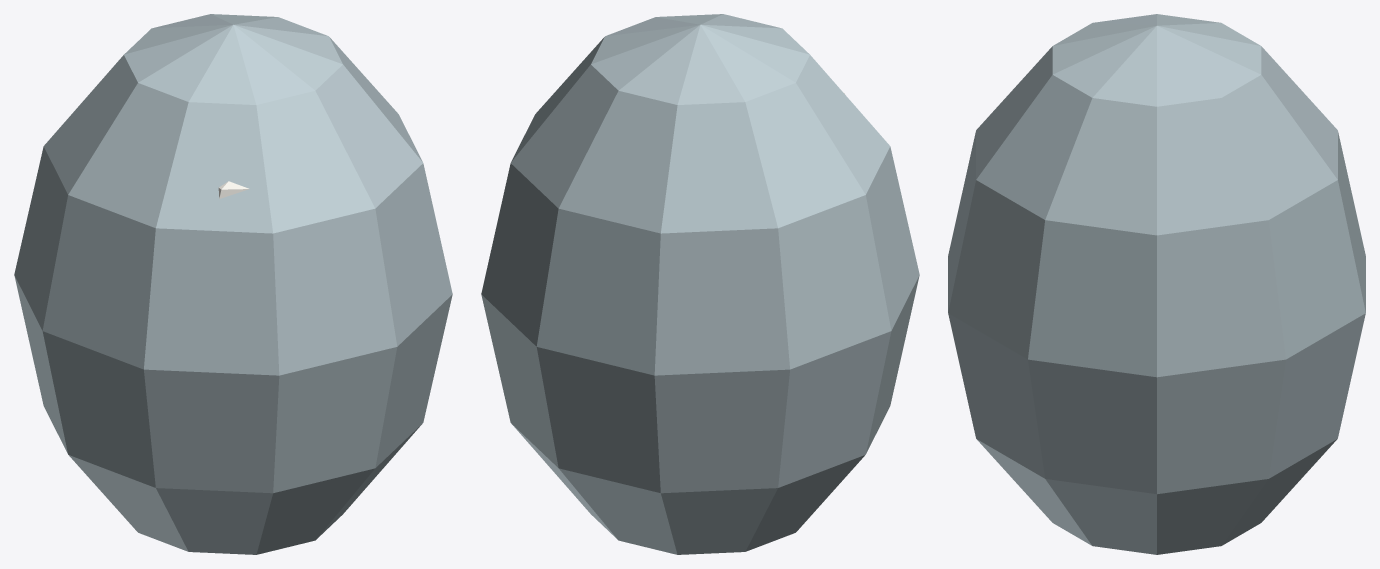
File: gota_rocio.glb
3 renders of one model, left to right at view 1: azimuth 30°, elevation 25°; view 2: azimuth 150°, elevation 25°; view 3: azimuth 270°, elevation 25°, orthographic.
Visible parts, largest first — view 1: gota_rocio; view 2: gota_rocio; view 3: gota_rocio.
Part boxes in pixels (bbox=[...]): gota_rocio: bbox=[14, 14, 452, 554]; gota_rocio: bbox=[481, 14, 919, 554]; gota_rocio: bbox=[948, 14, 1365, 554].
Bounding box in the file's own units: 0.2 × 0.26 × 0.1902.
